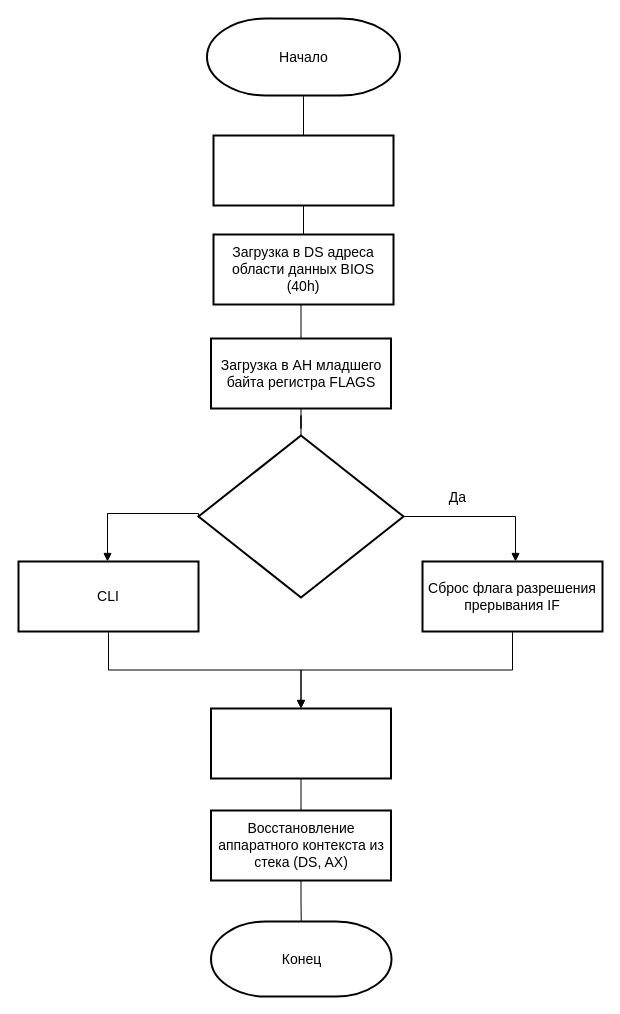
This 620x1014 diagram has some shape labels left out. The centre of each missing label's shape, as x and y in pixels:
Загрузка AH в младший байт регистра FLAGS: [301,743]
Значение флага DF == 0 и старший бит флага IOPL == 0: [300,516]
Сохранение аппаратного контекста в стек (DS, AX): [303,170]
